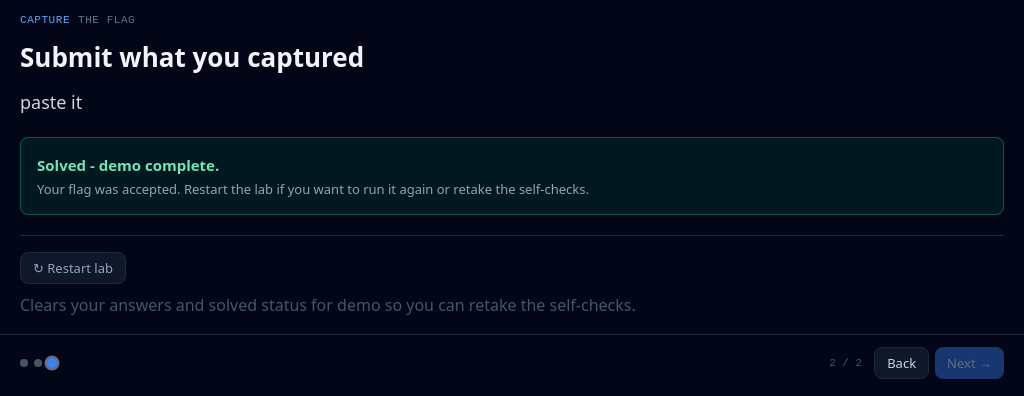
Test case: CoursePlayer restart resets the view › returns to the first screen and forgets the saved page on restart
Step 1. Click the button "↻ Restart lab" → point(73, 268), box [20,252,126,284]
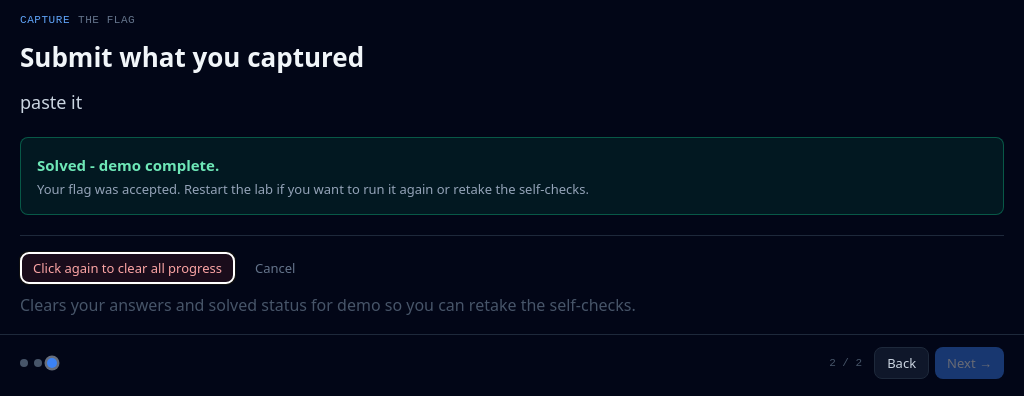
Step 2. Click the button "Click again to clear all progress" → point(128, 268), box [20,252,235,284]
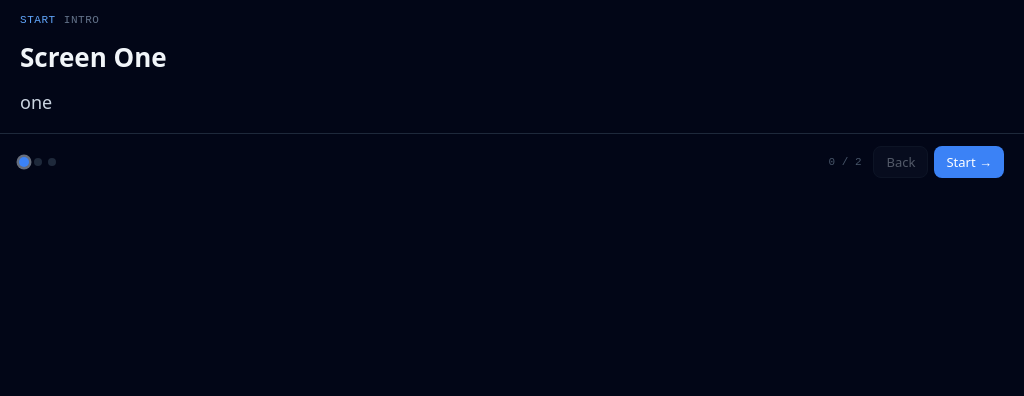
Check: the heading "Screen One" is shown, box [20,39,167,75]
